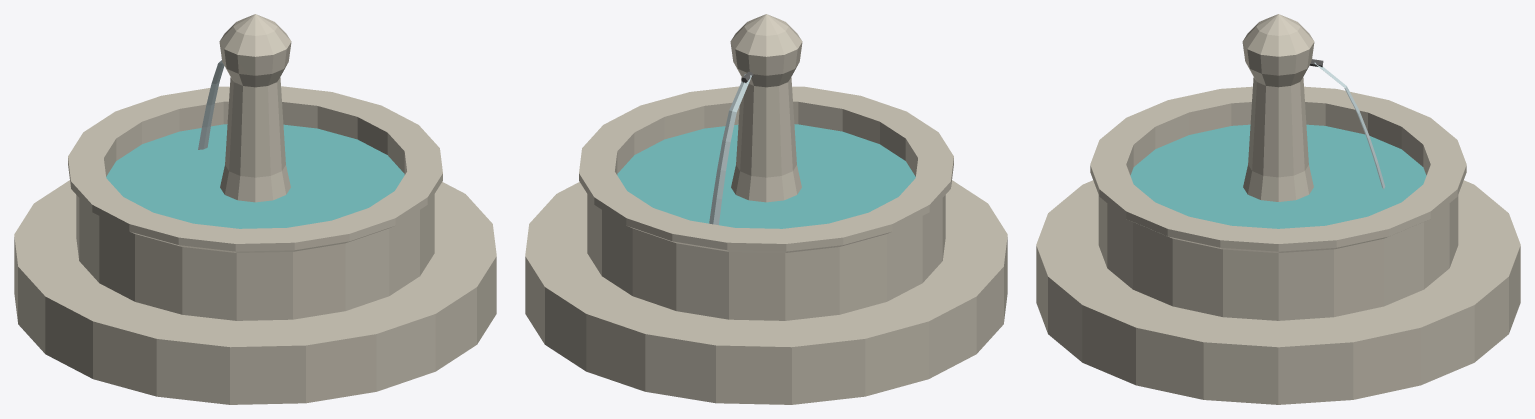
File: SM_BM_BH_Fontanella.glb
3 views of the same model, side by side, from view 1: azimuth 30°, elevation 25°; view 2: azimuth 150°, elevation 25°; view 3: azimuth 270°, elevation 25° (orthographic).
Parts seen in each view (by area): view 1: SM_BM_BH_Fontanella; view 2: SM_BM_BH_Fontanella; view 3: SM_BM_BH_Fontanella.
Part boxes in pixels (box(x1,y1,x2,y2)): SM_BM_BH_Fontanella: box(14, 14, 496, 404); SM_BM_BH_Fontanella: box(525, 14, 1007, 404); SM_BM_BH_Fontanella: box(1036, 14, 1520, 404).
Bounding box in the file's own units: 3.5 × 2.3 × 3.5.
